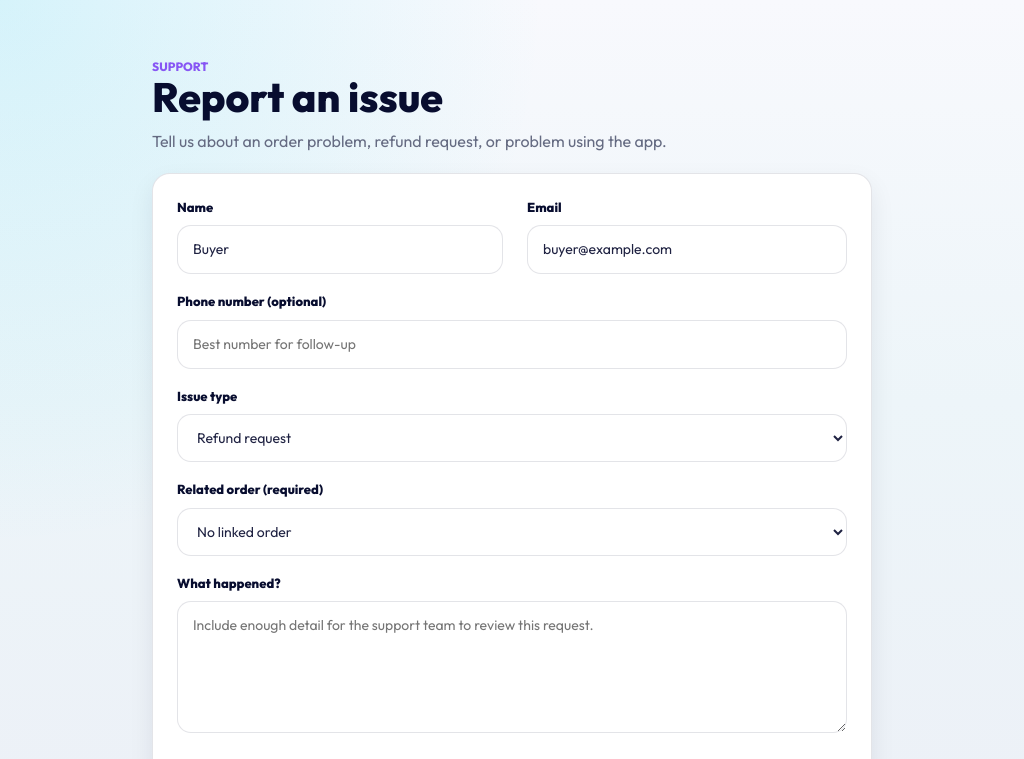
Test: ReportIssue › shows buyer issue categories and submits an owned-order refund request
This screenshot has width=1024, height=759.
Select "ORD-1 - Food Store" in the dropdown labelled "Related order (required)". click: {"x": 512, "y": 532}
box: [177, 508, 847, 556]
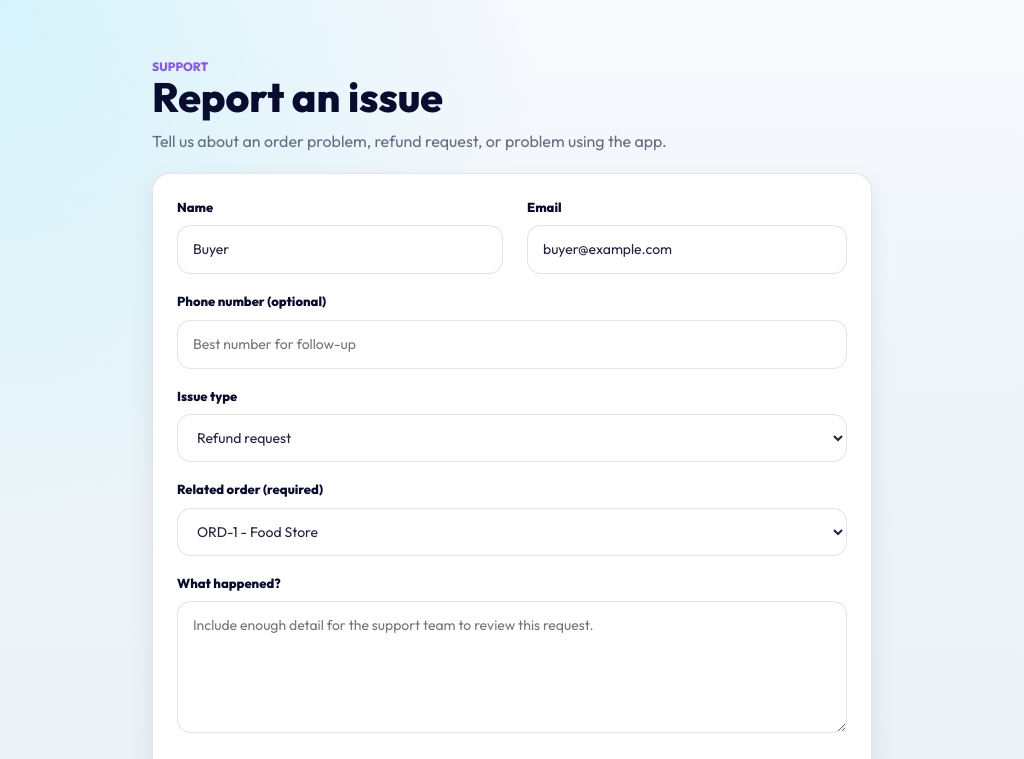
Replace the text in the text box labelled "What happened?" with "My order was cancelled after payment.". click: {"x": 512, "y": 667}
box: [177, 601, 847, 733]
(page scrolled)
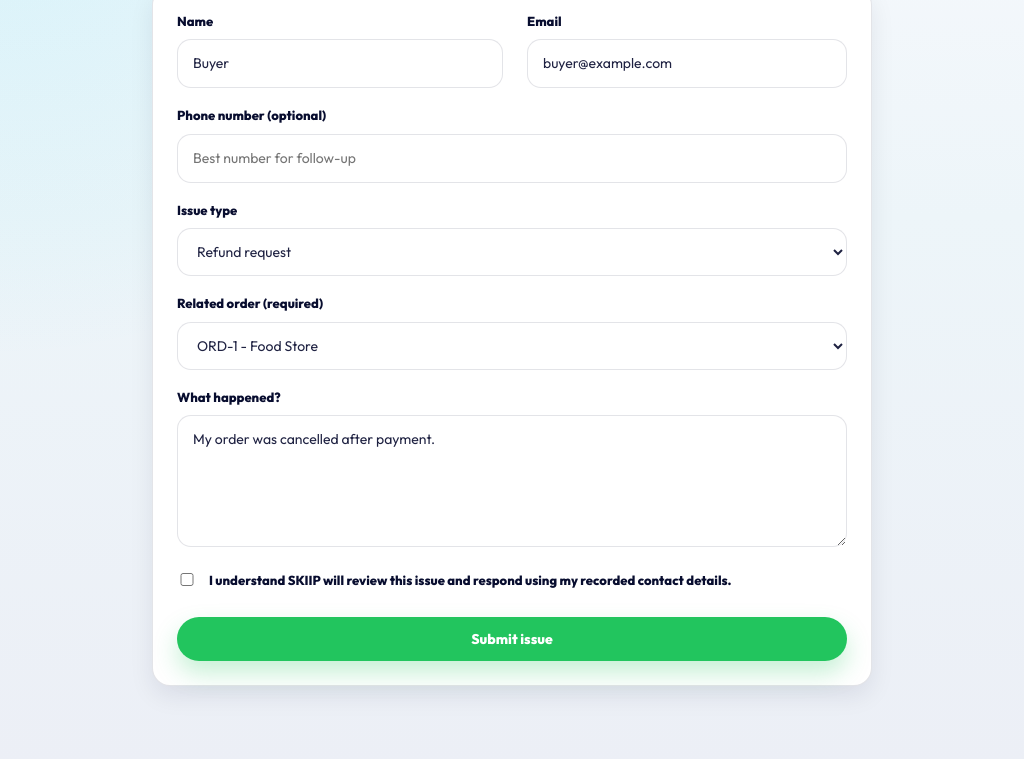
Click the text "I understand SKIIP". click: {"x": 470, "y": 581}
box: [209, 571, 732, 591]
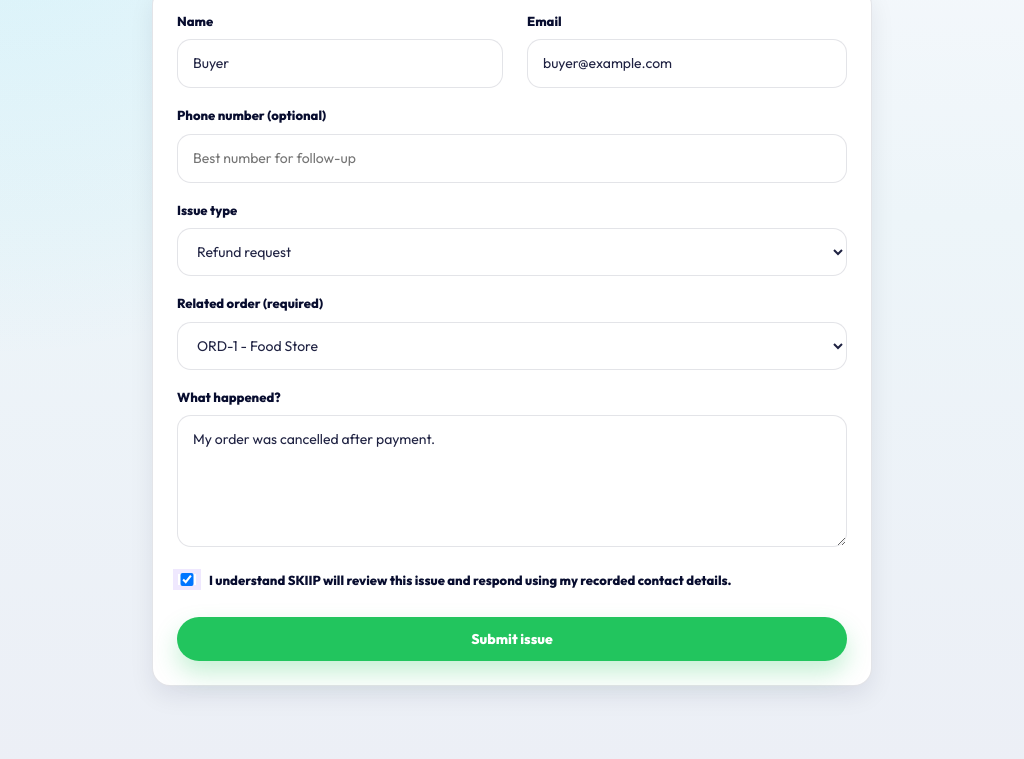
Click the button "Submit issue". click: {"x": 512, "y": 639}
box: [177, 617, 847, 661]
(page scrolled)
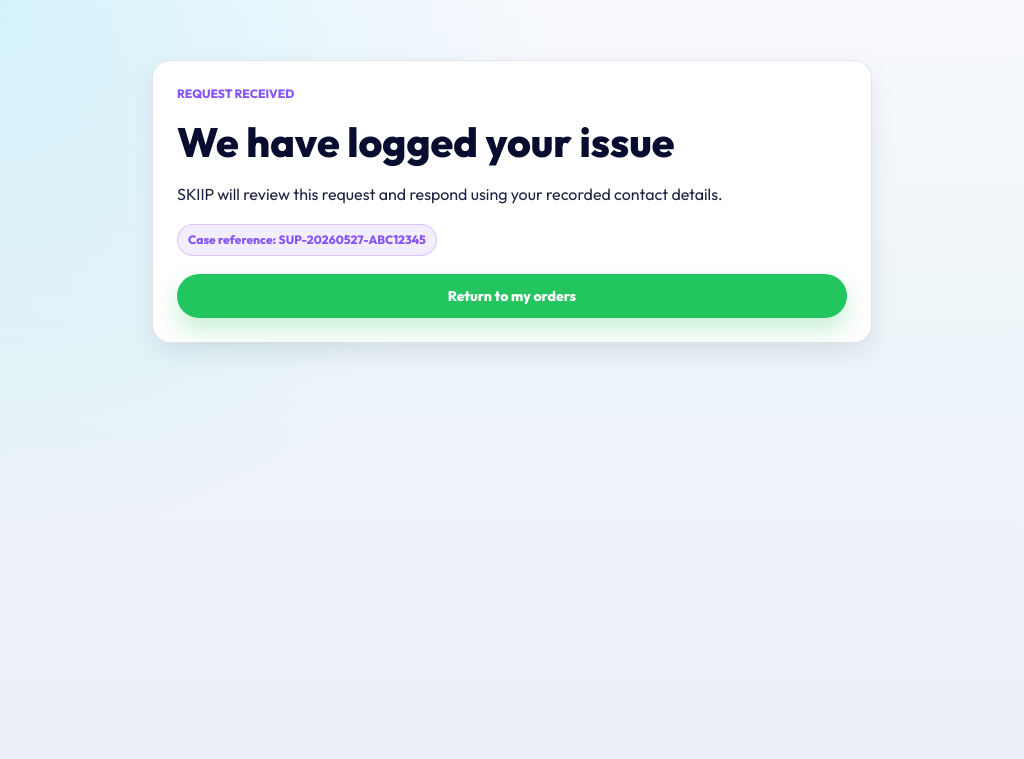
expect the text "Case reference: SUP-20260527-ABC12345" is shown: met, box [177, 224, 437, 256]
